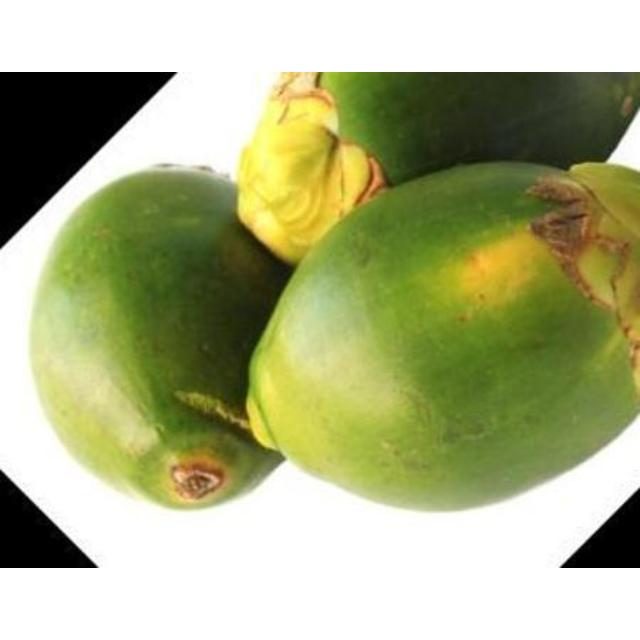good: (243, 162, 639, 516), (24, 163, 296, 516), (235, 72, 639, 267)
